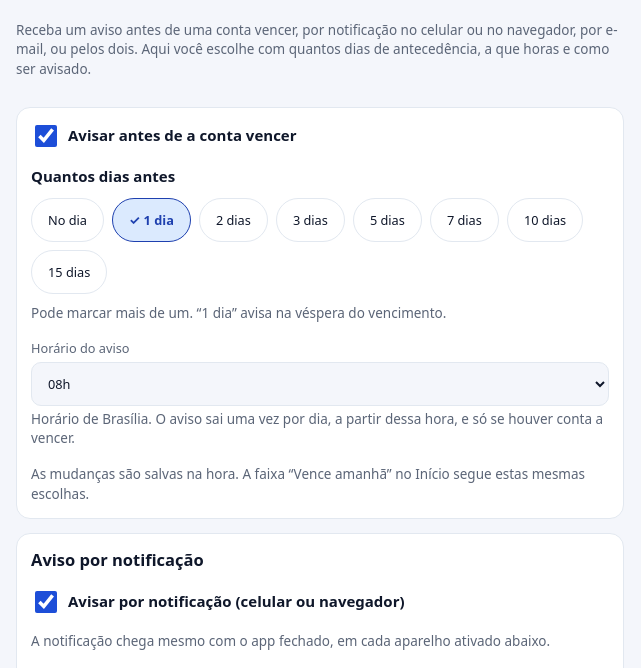
Test case: Tela Alertas de vencimento: quando avisar › falha ao gravar mostra o erro
Click the button "3 dias" at (310, 220), box [276, 198, 345, 242]
(page scrolled)
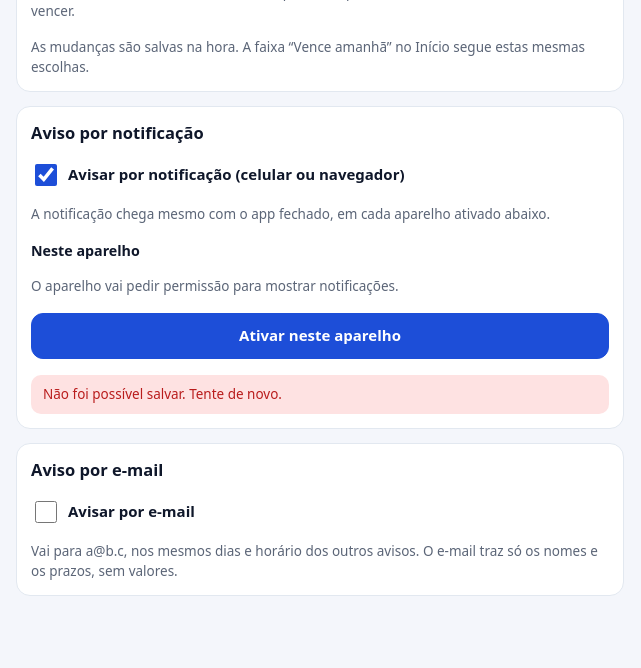
Now the message shows "Não foi possível salvar", box [43, 385, 282, 403]
